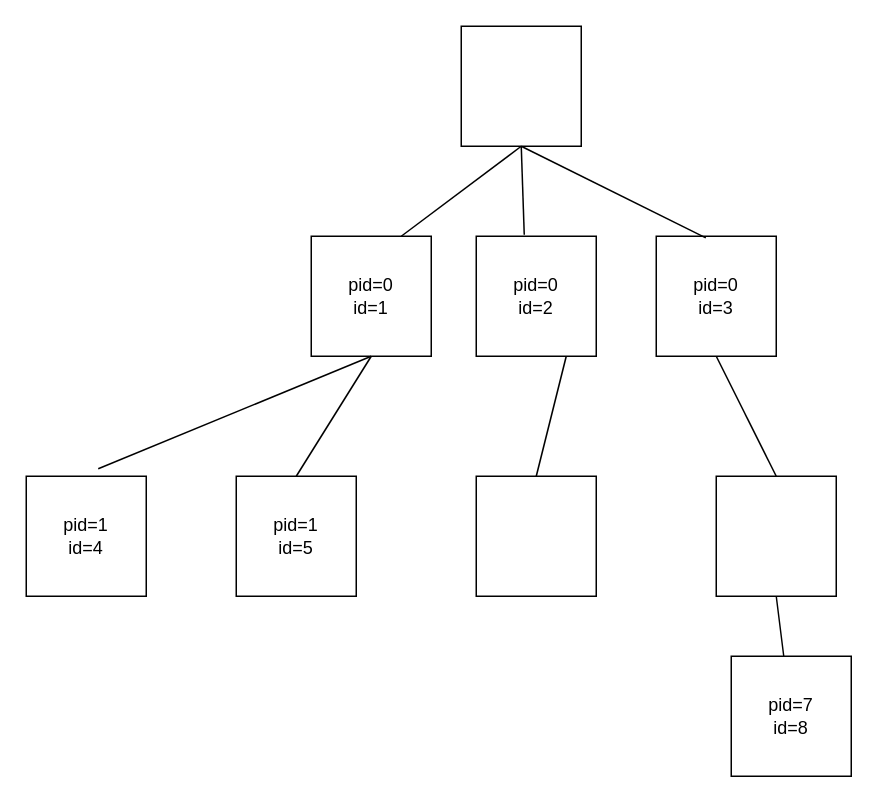
The diagram is 878 pixels wide and 803 high, and some of its shapes have lost their labels. The shapes that lost their labels are listed below. From the top down, each one's centre as x and y in pixels, then its label:
At (520,85): "pid=0 id=0".
At (535,535): "pid=2 id=6".
At (775,535): "pid=3 id=7".
